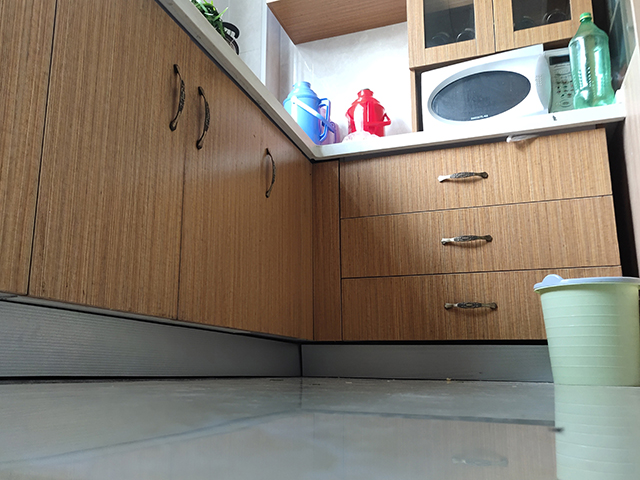cabinet: (1, 1, 314, 381), (309, 105, 640, 383)
trashcan: (532, 271, 640, 388)
